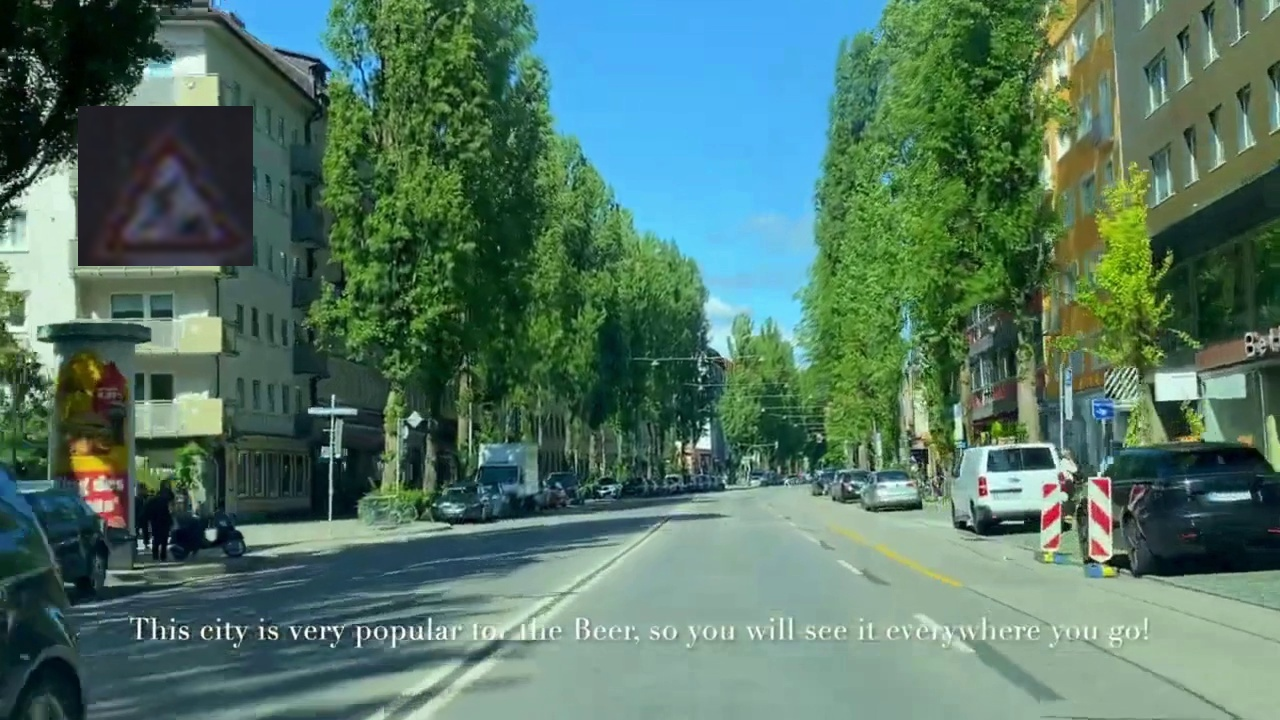Road work: (78, 106, 253, 266)
